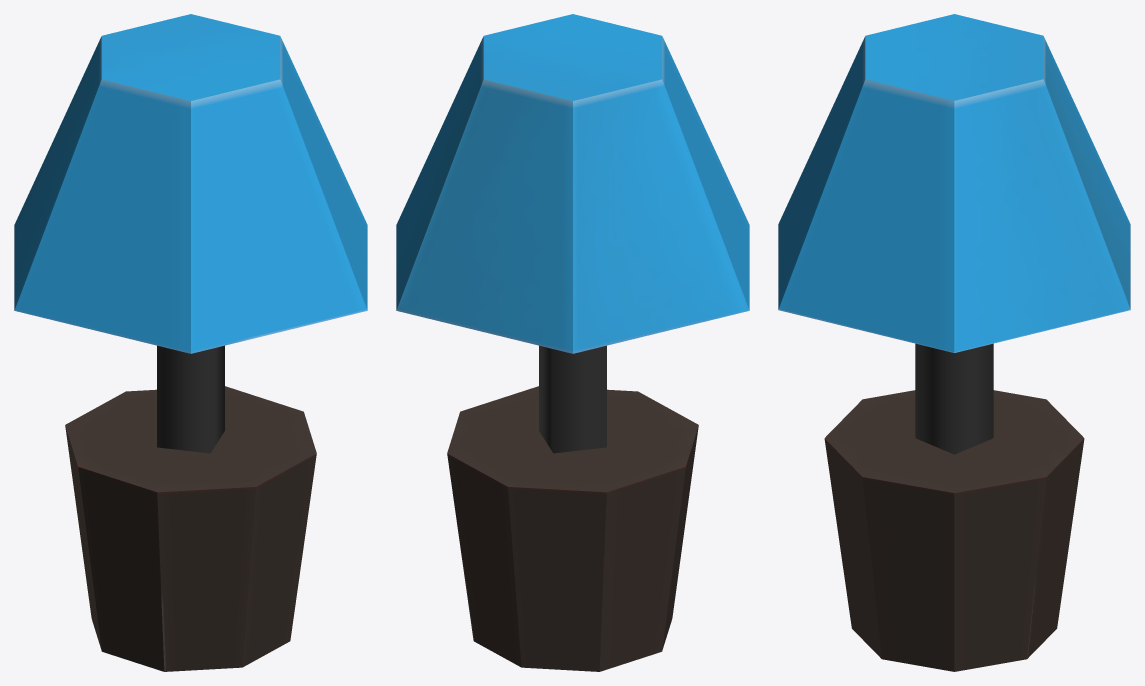
File: Lamps_night_1B.fbx
3 renders of one model, left to right at view 1: azimuth 30°, elevation 25°; view 2: azimuth 150°, elevation 25°; view 3: azimuth 270°, elevation 25°, orthographic.
Visible parts, largest first — view 1: polySurface1488; view 2: polySurface1488; view 3: polySurface1488.
Part boxes in pixels (x1,y1,x2,y2): polySurface1488: [14, 14, 367, 671]; polySurface1488: [396, 14, 749, 671]; polySurface1488: [778, 14, 1130, 671].
Size of the model in its own units: 0.5362 by 0.8307 by 0.4643.
